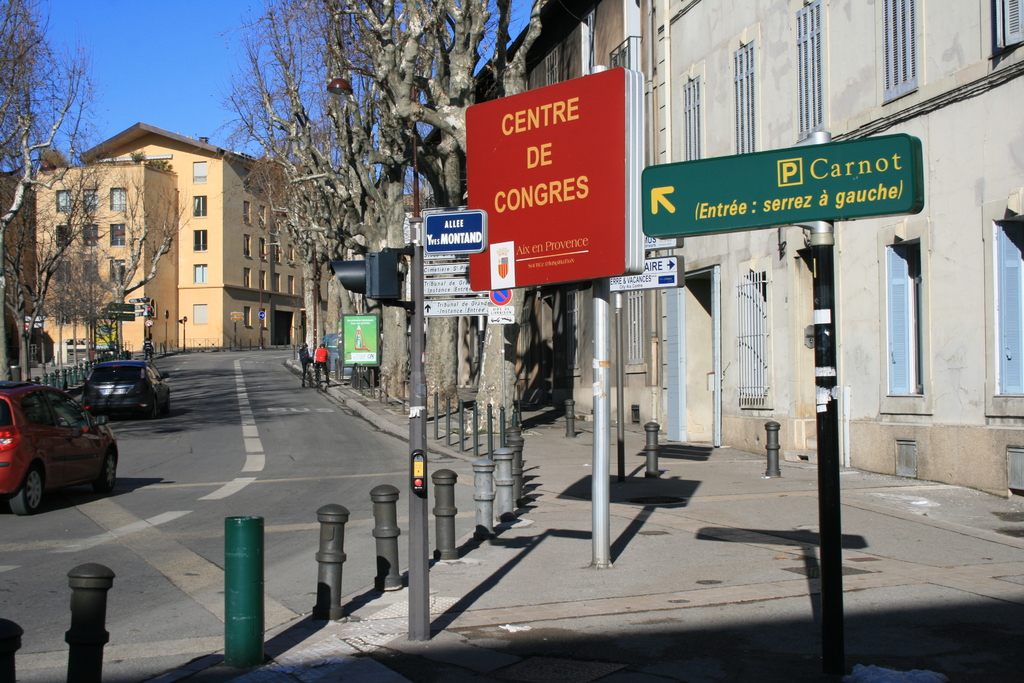Car: (0, 379, 117, 515), (80, 359, 168, 419)
